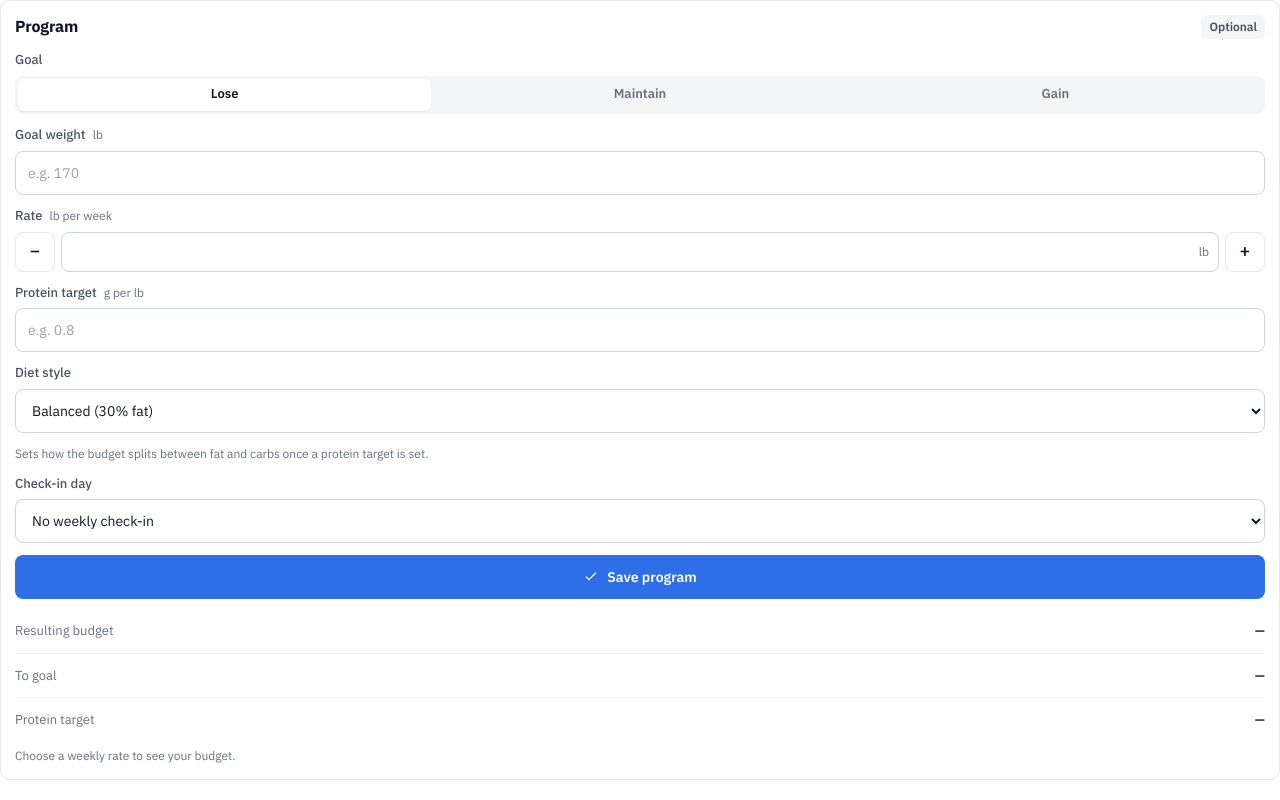
ProgramPanel: weekly rate › brings the budget and button back once a rate is chosen
Expected: the button "Set my daily budget" is not shown
In the number field labelled "Rate lb per week": (640, 252) [61, 232, 1219, 272], type "1"
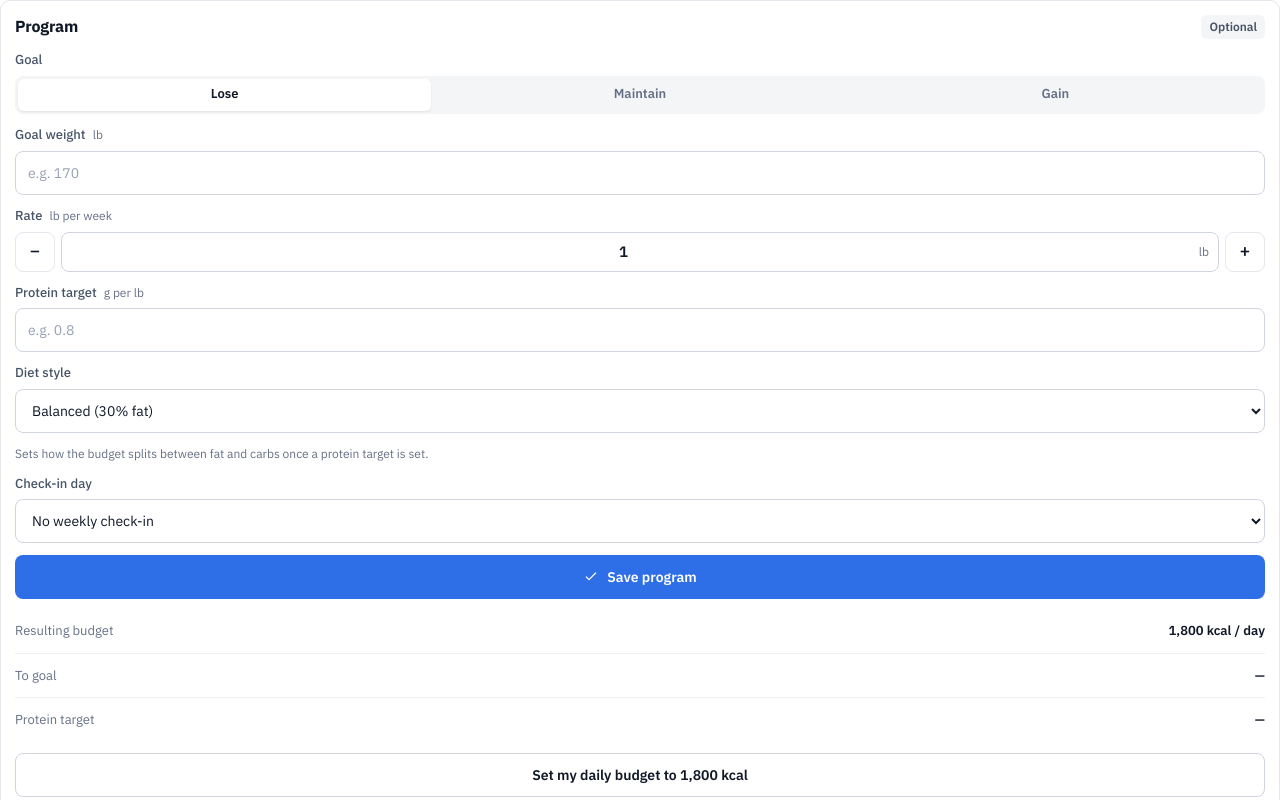
Result: the text "1,800 kcal / day" is shown at [1168, 622, 1265, 641]
Result: the button "Set my daily budget to 1,800 kcal" is shown at [15, 754, 1265, 798]
Result: the text "Choose a weekly rate to see your budget." is gone
